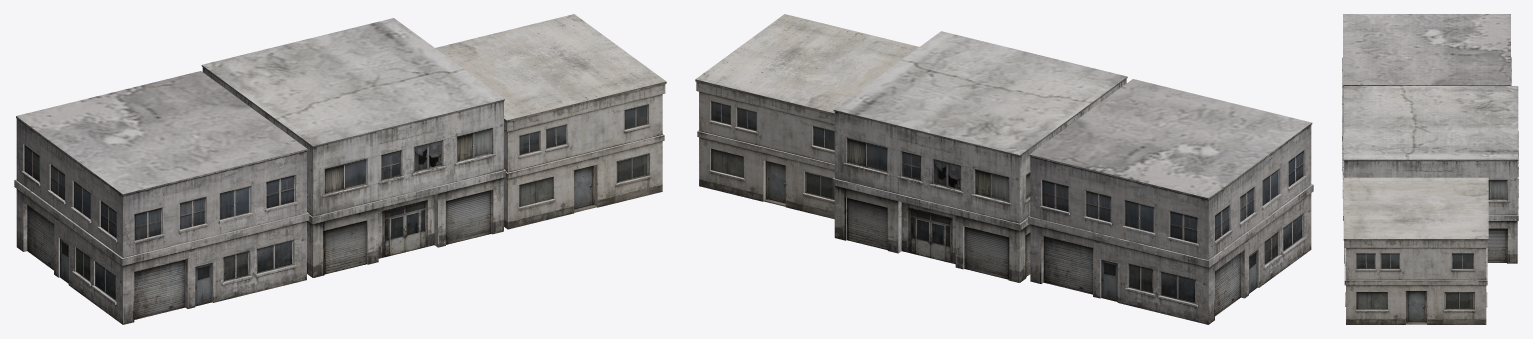
Rendered from panelka2.glb.
The picture shows the model from 3 angles, left to right: view 1: azimuth 30°, elevation 25°; view 2: azimuth 150°, elevation 25°; view 3: azimuth 270°, elevation 25°; orthographic projection. The views are drawn at different scales.
Parts seen in each view (by area): view 1: Building 2, Building 1, Building 3; view 2: Building 2, Building 1, Building 3; view 3: Building 3, Building 1, Building 2.
Boxes of the visible parts, box(x1,y1,x2,y2) form: Building 2: box(14, 71, 309, 324); Building 1: box(201, 18, 505, 277); Building 3: box(435, 14, 666, 229); Building 2: box(1028, 79, 1313, 324); Building 1: box(832, 31, 1127, 282); Building 3: box(695, 14, 918, 219); Building 3: box(1343, 177, 1488, 324); Building 1: box(1342, 86, 1518, 263); Building 2: box(1342, 14, 1511, 171).
Size of the model in its own units: 29.41 by 6.83 by 10.51.
3 materials, 3 textured.
